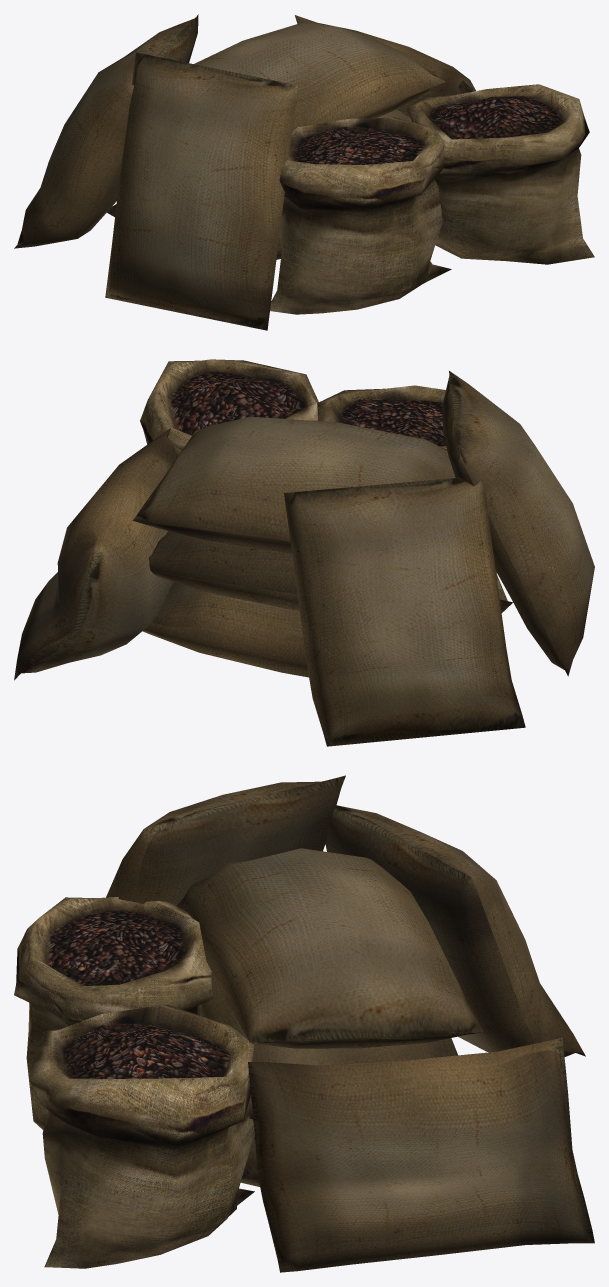
Rendered from coffee_sack_group_asset.glb.
3 renders of one model, top to bottom at view 1: azimuth 30°, elevation 25°; view 2: azimuth 150°, elevation 25°; view 3: azimuth 270°, elevation 25°, orthographic. The views are drawn at different scales.
Visible parts, largest first — view 1: Cube.001, Plane, Plane.001, Cube, Cube.002, Cube.003; view 2: Cube.002, Cube, Cube.001, Cube.003, Plane.001, Plane; view 3: Cube.003, Cube, Plane.001, Cube.002, Plane, Cube.001.
Boxes of the visible parts, <box> form: Cube.001: <box>105,52,297,330</box>; Plane: <box>270,117,451,314</box>; Plane.001: <box>406,84,594,264</box>; Cube: <box>106,22,445,259</box>; Cube.002: <box>14,14,198,248</box>; Cube.003: <box>295,15,475,116</box>; Cube.002: <box>284,477,525,746</box>; Cube: <box>133,416,512,677</box>; Cube.001: <box>442,371,594,676</box>; Cube.003: <box>14,428,175,680</box>; Plane.001: <box>140,359,318,458</box>; Plane: <box>317,385,507,601</box>; Cube.003: <box>248,1037,594,1272</box>; Cube: <box>176,848,483,1186</box>; Plane.001: <box>29,1004,254,1268</box>; Cube.002: <box>325,805,585,1056</box>; Plane: <box>14,897,213,1129</box>; Cube.001: <box>106,775,345,906</box>.
Bounding box in the file's own units: 1.78 × 0.7964 × 1.51.
Materials: 1 (1 with a texture image).
